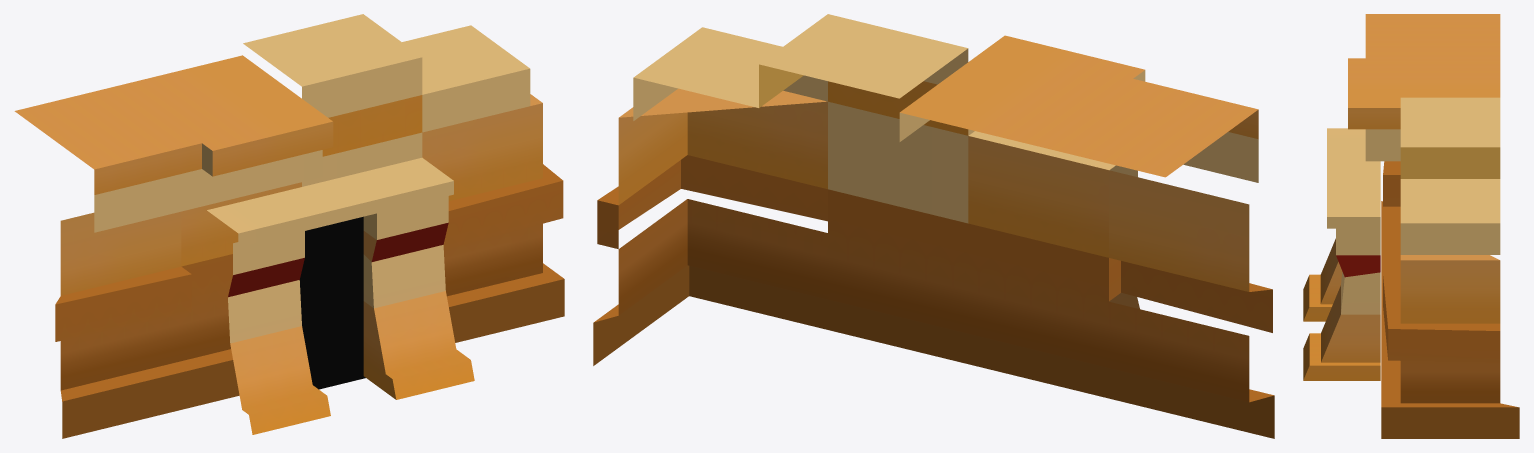
The model's file is EntradaTemplo.glb.
The picture shows the model from 3 angles, left to right: view 1: azimuth 30°, elevation 25°; view 2: azimuth 150°, elevation 25°; view 3: azimuth 270°, elevation 25°; orthographic projection. The views are drawn at different scales.
Parts seen in each view (by area): view 1: EntradaTemplo; view 2: EntradaTemplo; view 3: EntradaTemplo.
Part boxes in pixels (box(x1,y1,x2,y2)): EntradaTemplo: box(14, 14, 564, 438); EntradaTemplo: box(593, 14, 1274, 438); EntradaTemplo: box(1303, 14, 1519, 438).
Bounding box in the file's own units: 14.28 × 7.51 × 6.19.
1 material, 1 textured.
